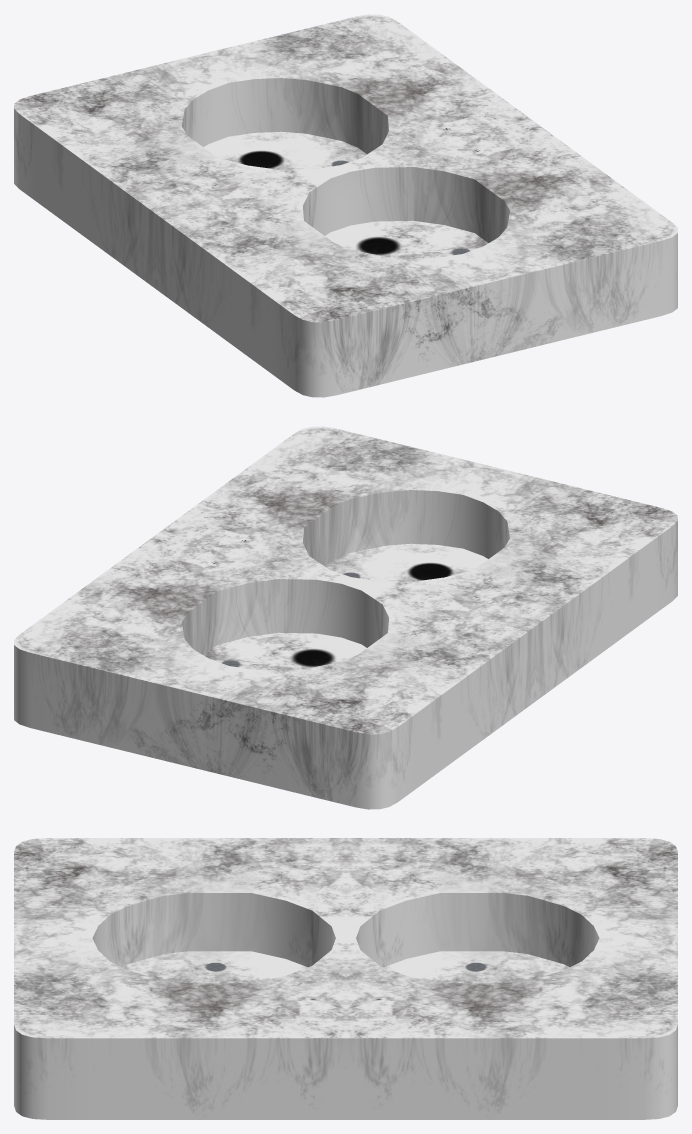
The model's file is Socket2.FBX.
The picture shows the model from 3 angles, top to bottom: view 1: azimuth 30°, elevation 25°; view 2: azimuth 150°, elevation 25°; view 3: azimuth 270°, elevation 25°; orthographic projection. The views are drawn at different scales.
Visible parts, largest first — view 1: Box001; view 2: Box001; view 3: Box001.
Boxes of the visible parts, x1=… form: Box001: x1=14, y1=14, x2=677, y2=397; Box001: x1=14, y1=426, x2=677, y2=809; Box001: x1=14, y1=838, x2=677, y2=1119.
Size of the model in its own units: 10.21 by 1.94 by 14.3.
Materials: 1 (1 with a texture image).
